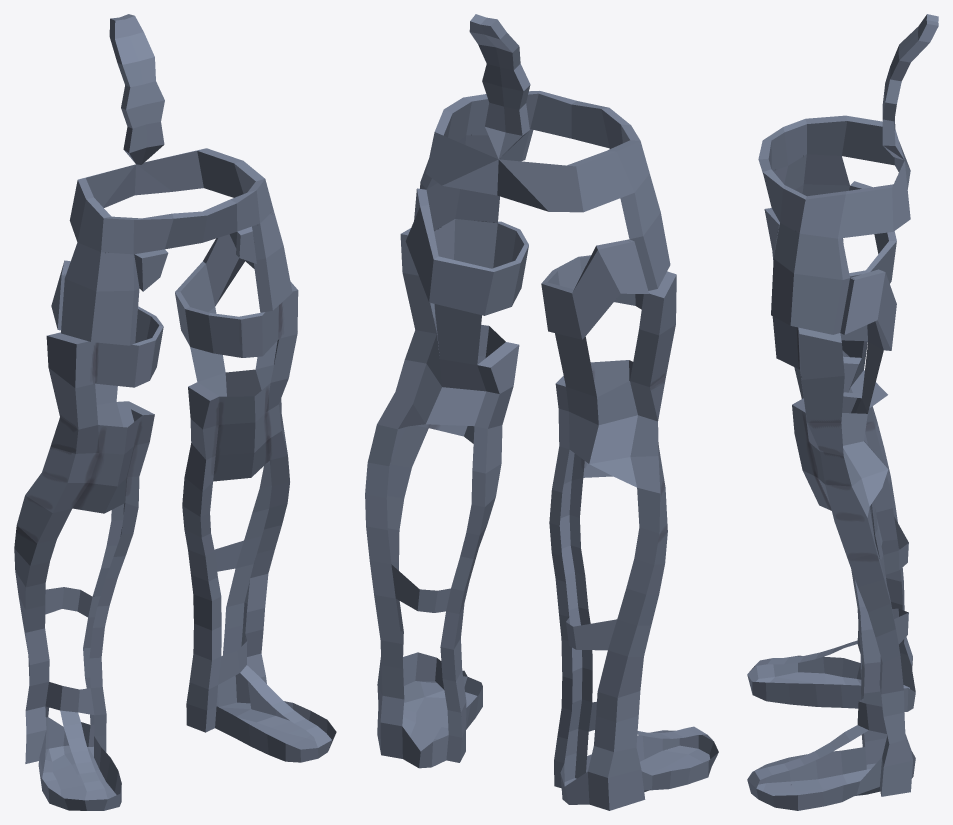
The model's file is Exoskeleton.fbx.
3 views of the same model, side by side, from view 1: azimuth 30°, elevation 25°; view 2: azimuth 150°, elevation 25°; view 3: azimuth 270°, elevation 25° (orthographic). The views are drawn at different scales.
Visible parts, largest first — view 1: Exoskeleton; view 2: Exoskeleton; view 3: Exoskeleton.
Part boxes in pixels (<box>): Exoskeleton: <box>14,14,336,810</box>; Exoskeleton: <box>365,14,718,810</box>; Exoskeleton: <box>747,14,938,810</box>.
Bounding box in the file's own units: 51.68 × 125 × 30.02.
